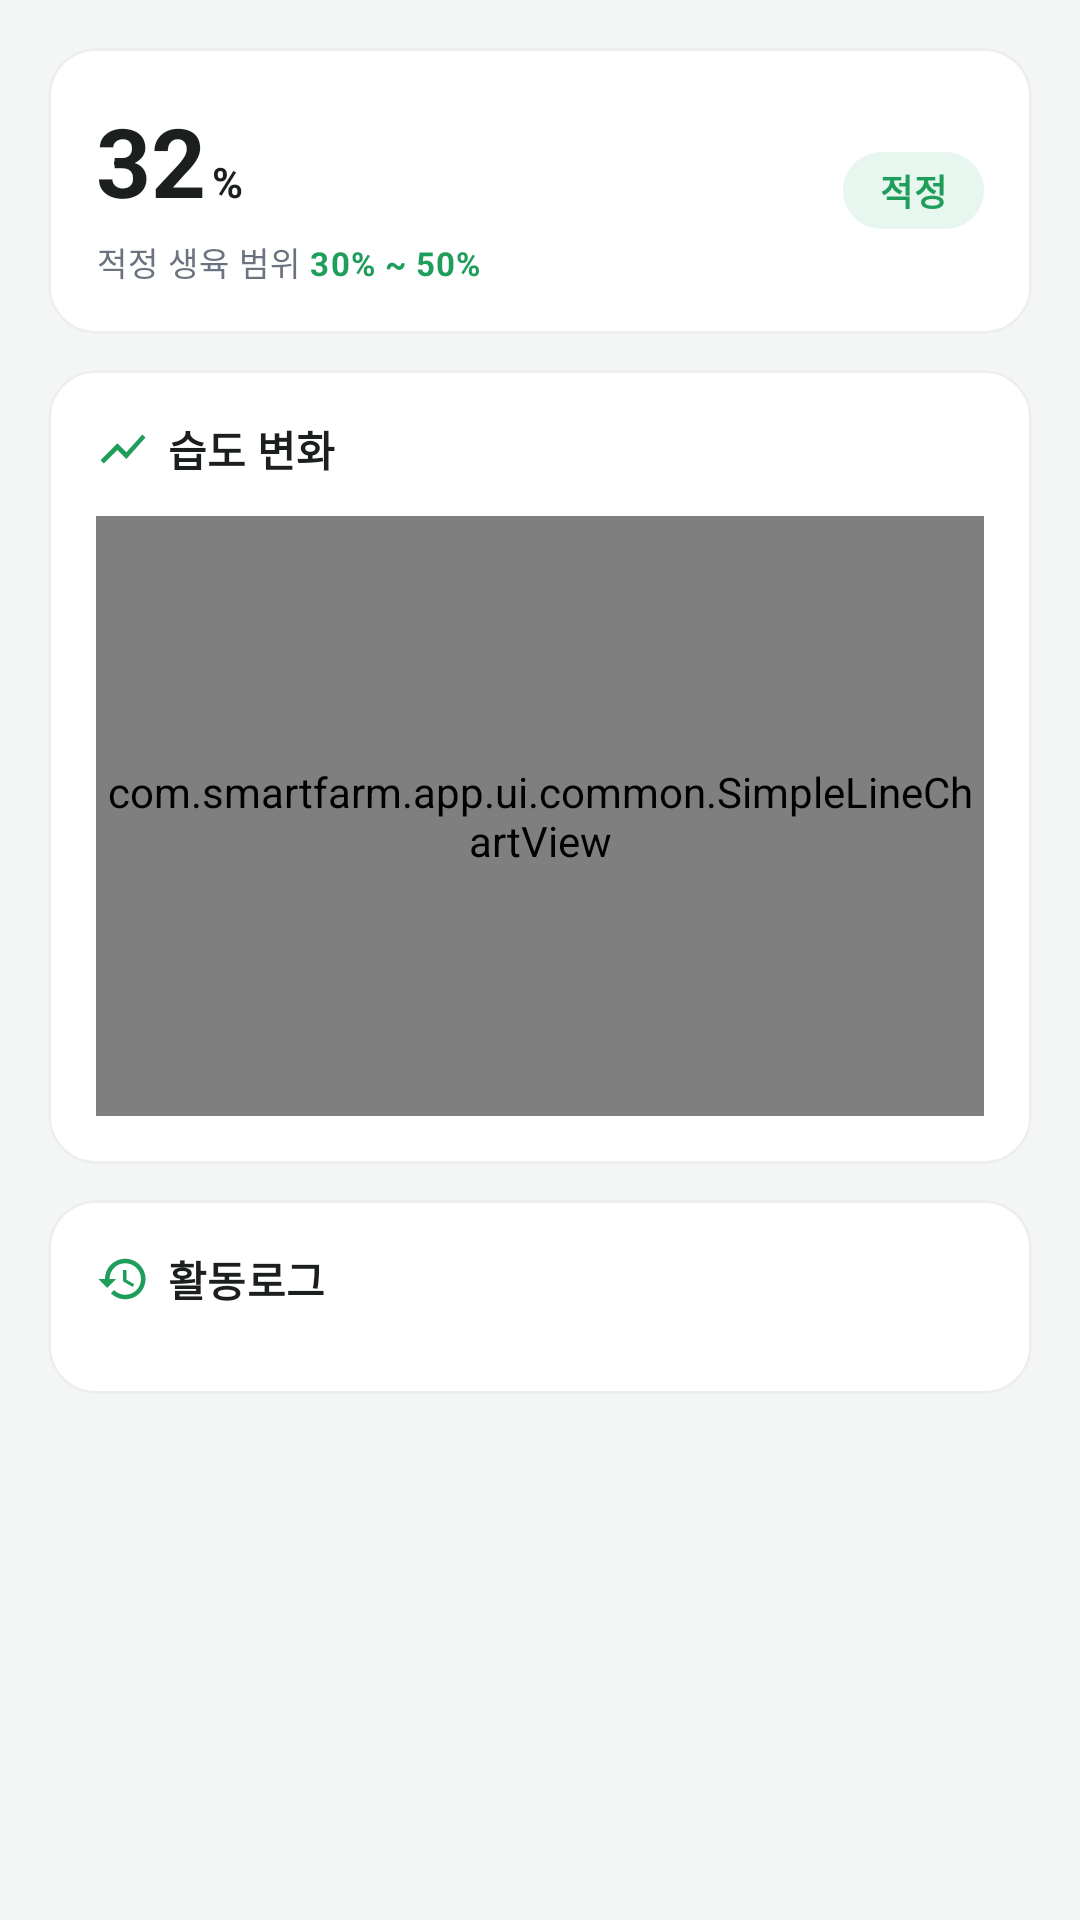

Screen size 1080 × 1920. Icon name, then its box in pixels as (x1, y1, x2, y2):
history: (98, 1258, 146, 1300)
trending: (100, 434, 146, 464)
